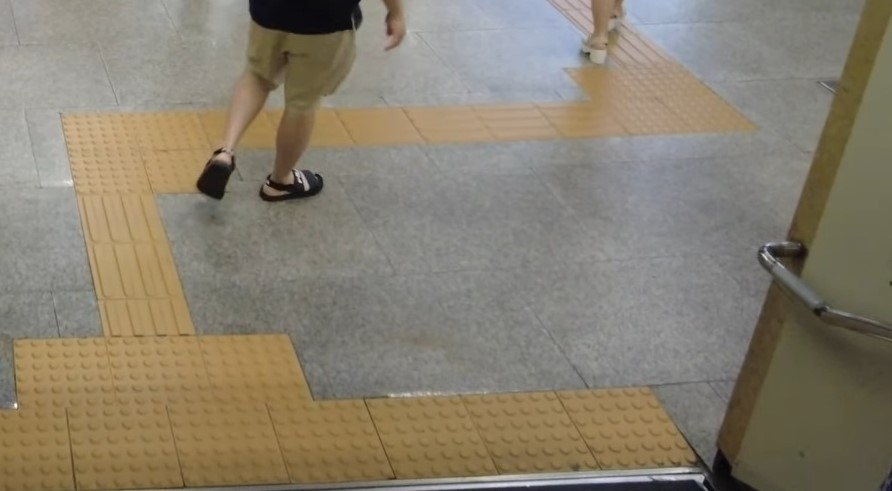guideBlock: (93, 242, 188, 297), (99, 297, 206, 335), (77, 205, 166, 249)
warningBlock: (164, 404, 302, 491), (567, 383, 694, 471), (68, 402, 185, 491), (469, 388, 581, 478), (273, 399, 409, 471), (372, 394, 493, 469), (213, 332, 308, 399), (17, 341, 111, 408), (1, 416, 84, 491), (112, 343, 210, 401), (68, 161, 160, 197), (137, 108, 213, 148), (145, 152, 230, 185), (57, 114, 137, 147)
